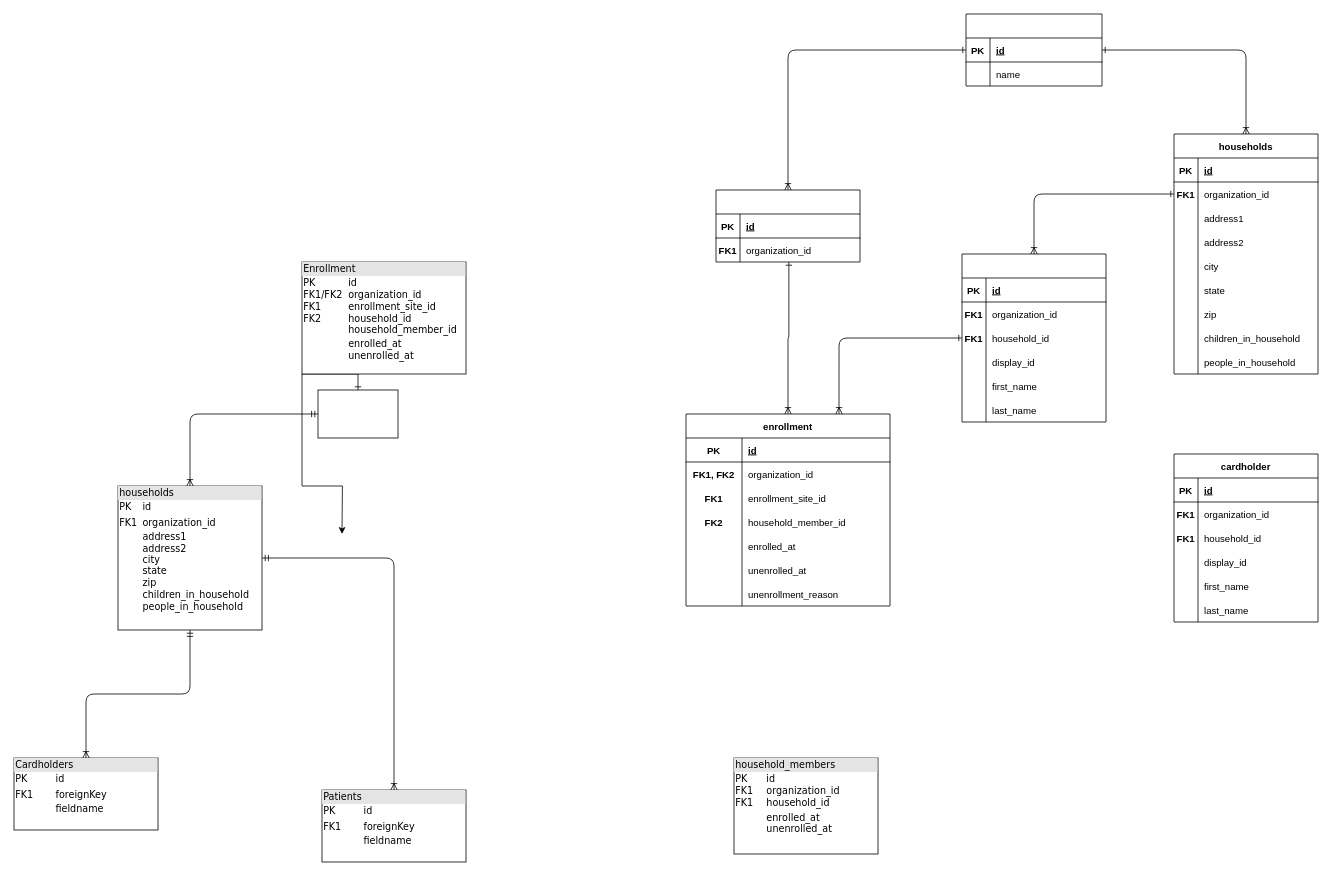
This 1332x876 diagram has some shape labels left out. Here are the shapes that lost their labels. From the top down, the box of each, then its label:
(965, 13, 1102, 86): organizations
(715, 189, 860, 262): enrollment_sites
(961, 253, 1106, 422): household_member
(317, 389, 398, 438): organizations PK id name
